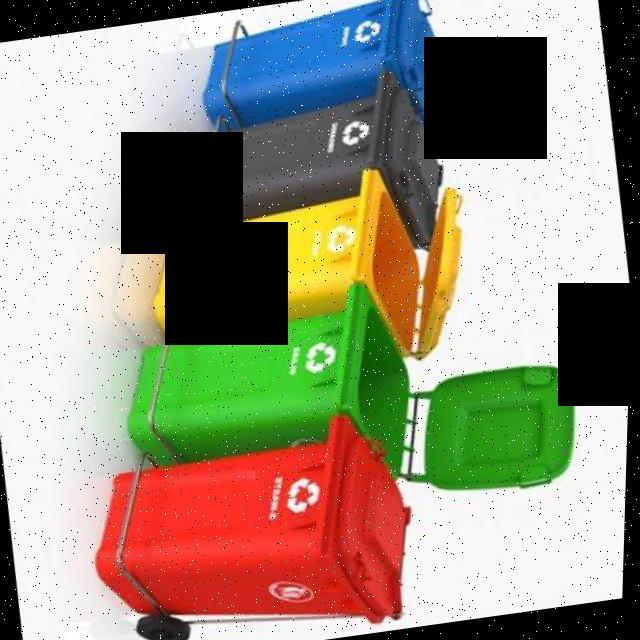bin: (112, 254, 605, 563), (95, 154, 491, 406), (68, 432, 440, 640), (162, 63, 477, 266), (176, 0, 490, 178)
